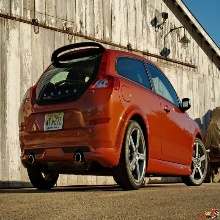no damage: (19, 44, 209, 190)
